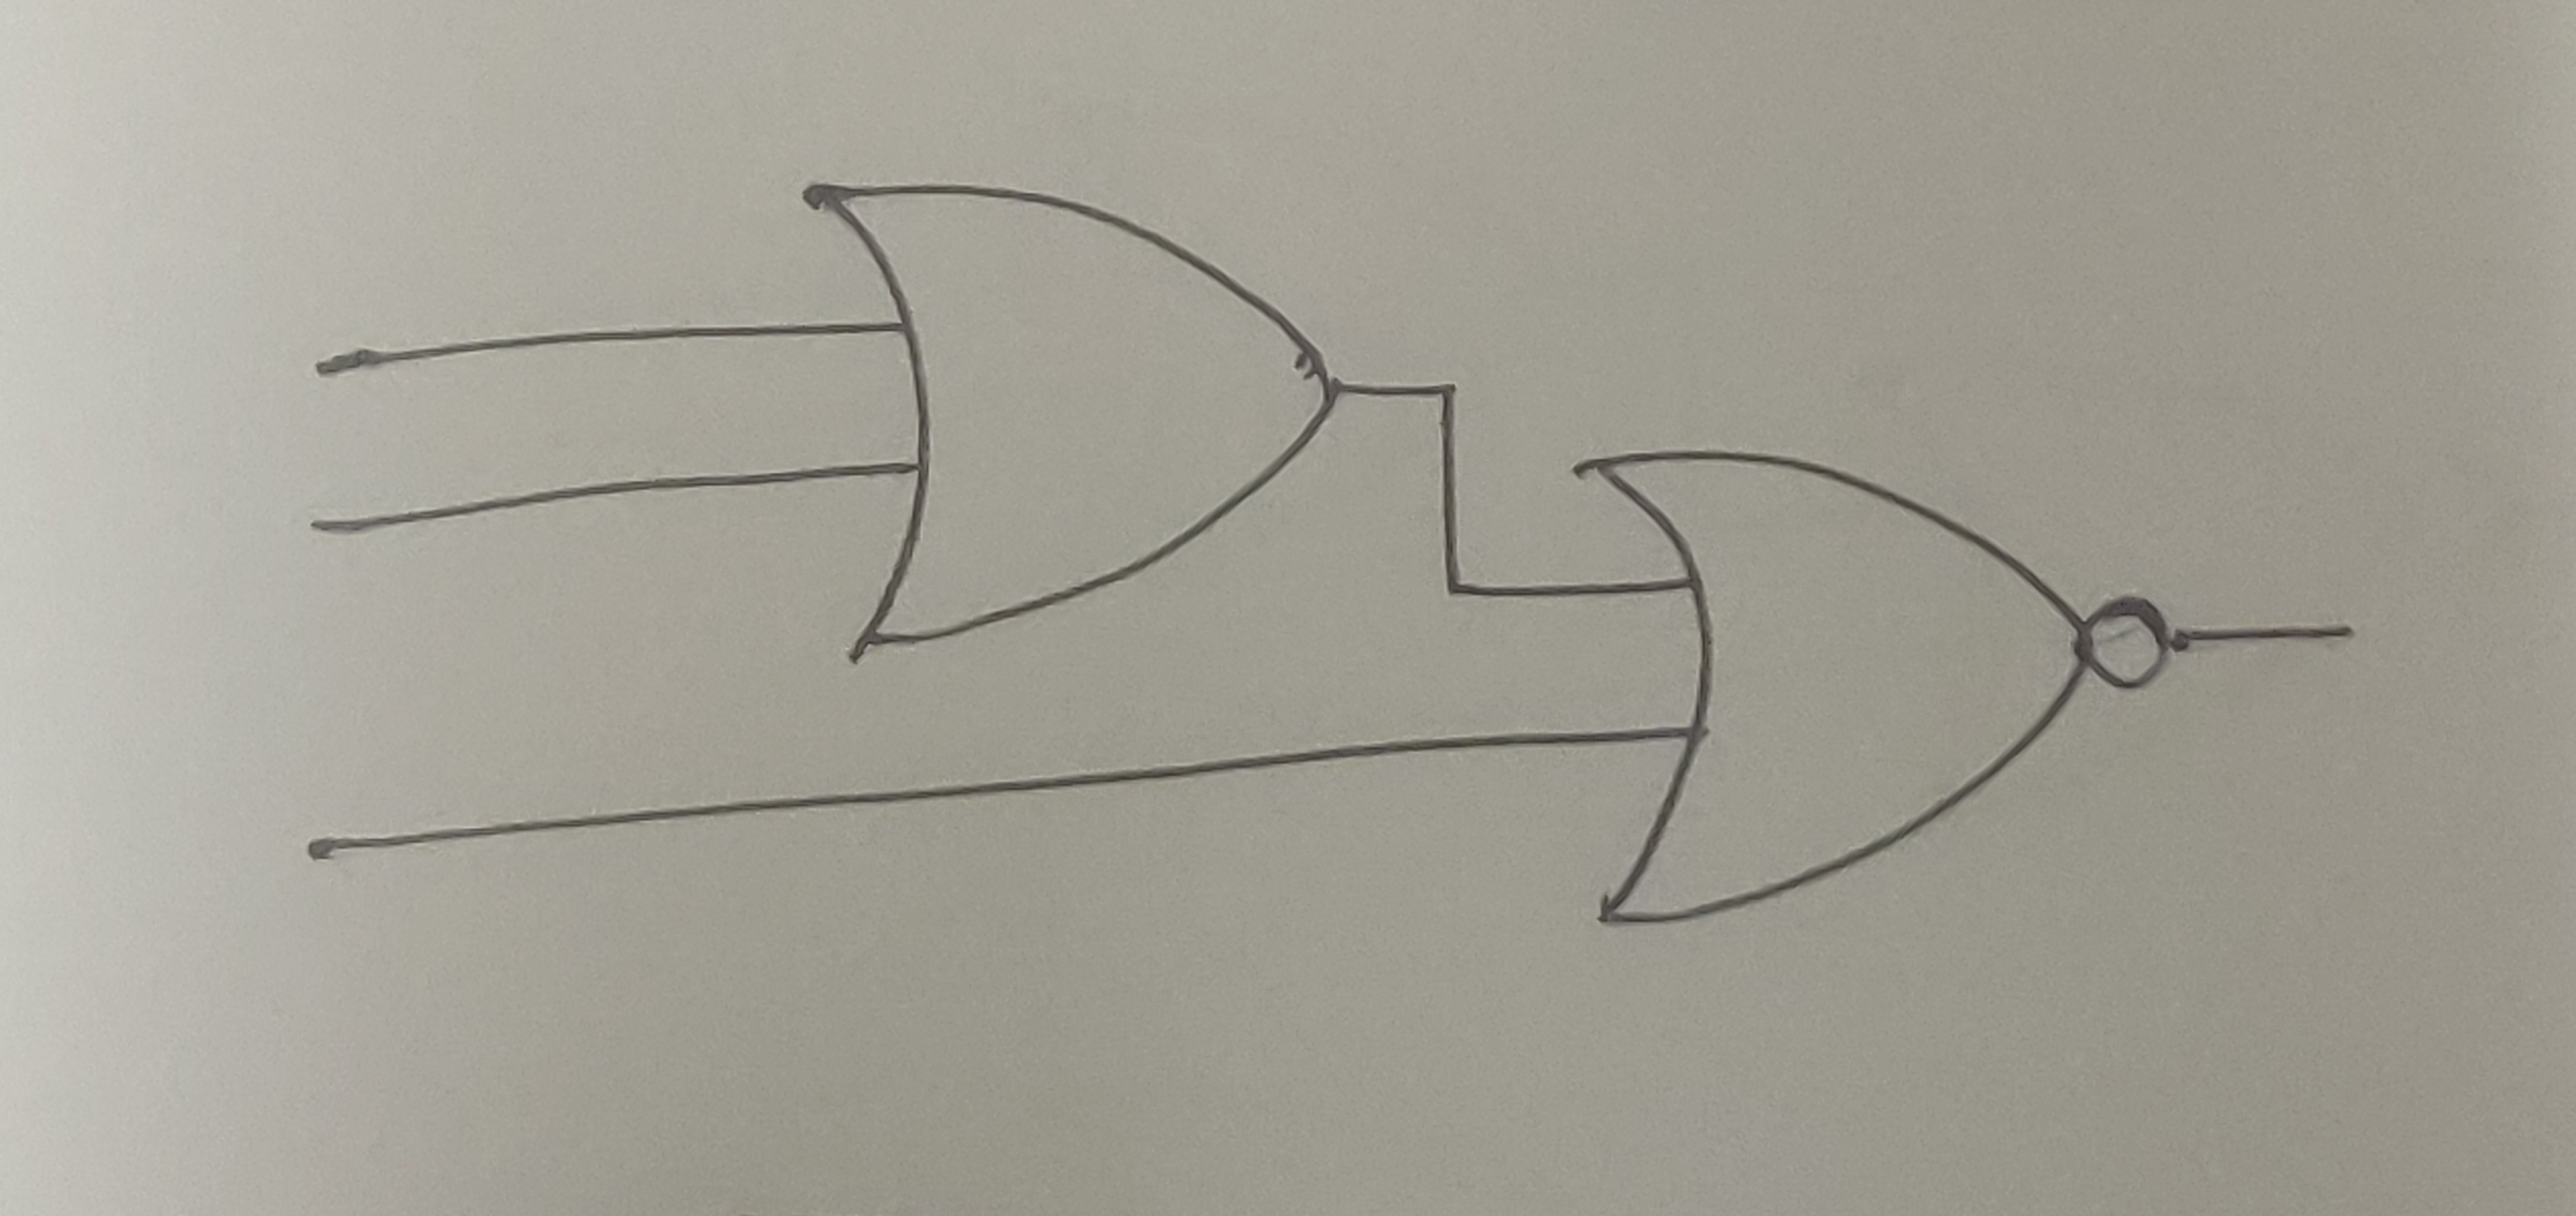not: (2070, 588, 2182, 703)
or: (787, 177, 1354, 670), (1567, 447, 2093, 950)
